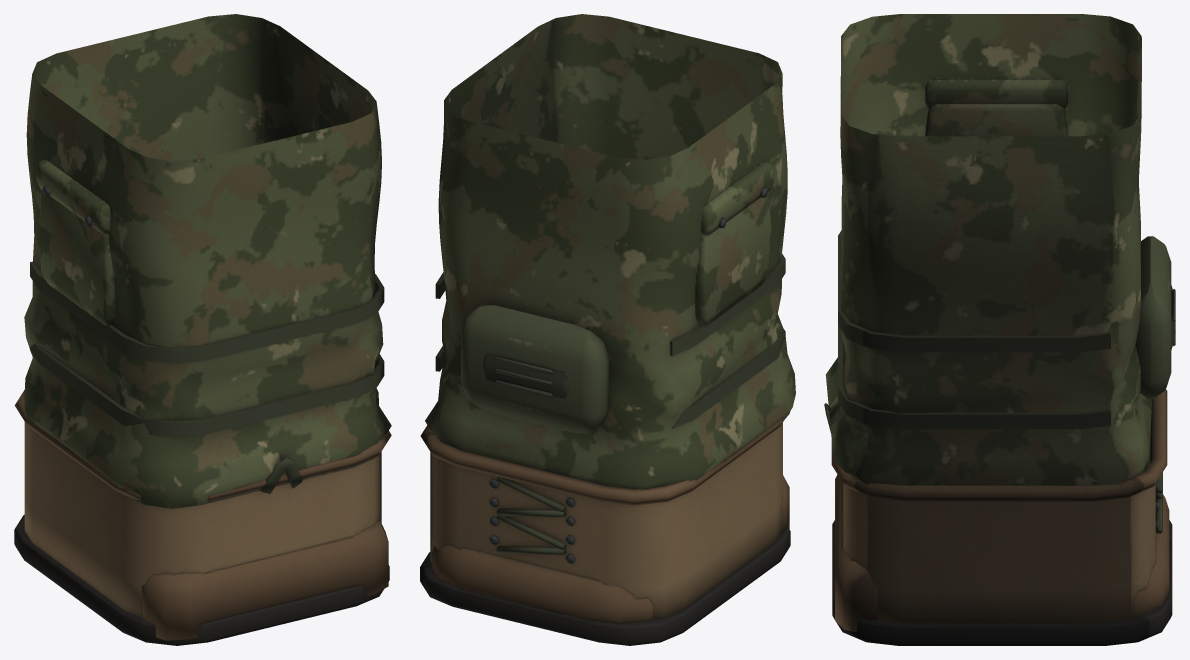
File: Ashford_Leg_L.fbx
The picture shows the model from 3 angles, left to right: view 1: azimuth 30°, elevation 25°; view 2: azimuth 150°, elevation 25°; view 3: azimuth 270°, elevation 25°; orthographic projection. The views are drawn at different scales.
Visible parts, largest first — view 1: Ashford_Leg_L_cloth, Ashford_Leg_L_boot, Ashford_Leg_L_strap, Ashford_Leg_L_sole; view 2: Ashford_Leg_L_cloth, Ashford_Leg_L_boot, Ashford_Leg_L_knee, Ashford_Leg_L_sole, Ashford_Leg_L_strap, Ashford_Leg_L_metal; view 3: Ashford_Leg_L_cloth, Ashford_Leg_L_boot, Ashford_Leg_L_strap, Ashford_Leg_L_sole, Ashford_Leg_L_knee.
Part boxes in pixels (x1,y1,x2,y2): Ashford_Leg_L_cloth: [24, 14, 391, 508]; Ashford_Leg_L_boot: [14, 390, 391, 640]; Ashford_Leg_L_strap: [30, 261, 384, 493]; Ashford_Leg_L_sole: [14, 514, 389, 645]; Ashford_Leg_L_cloth: [425, 14, 795, 489]; Ashford_Leg_L_boot: [420, 415, 789, 623]; Ashford_Leg_L_knee: [461, 304, 609, 433]; Ashford_Leg_L_sole: [420, 526, 790, 645]; Ashford_Leg_L_strap: [435, 253, 785, 554]; Ashford_Leg_L_metal: [489, 187, 767, 563]; Ashford_Leg_L_cloth: [826, 14, 1151, 485]; Ashford_Leg_L_boot: [831, 389, 1169, 632]; Ashford_Leg_L_strap: [824, 230, 1162, 533]; Ashford_Leg_L_sole: [832, 520, 1172, 645]; Ashford_Leg_L_knee: [1135, 236, 1175, 398].
Bounding box in the file's own units: 121 × 204 × 128.
1 material, 1 textured.
